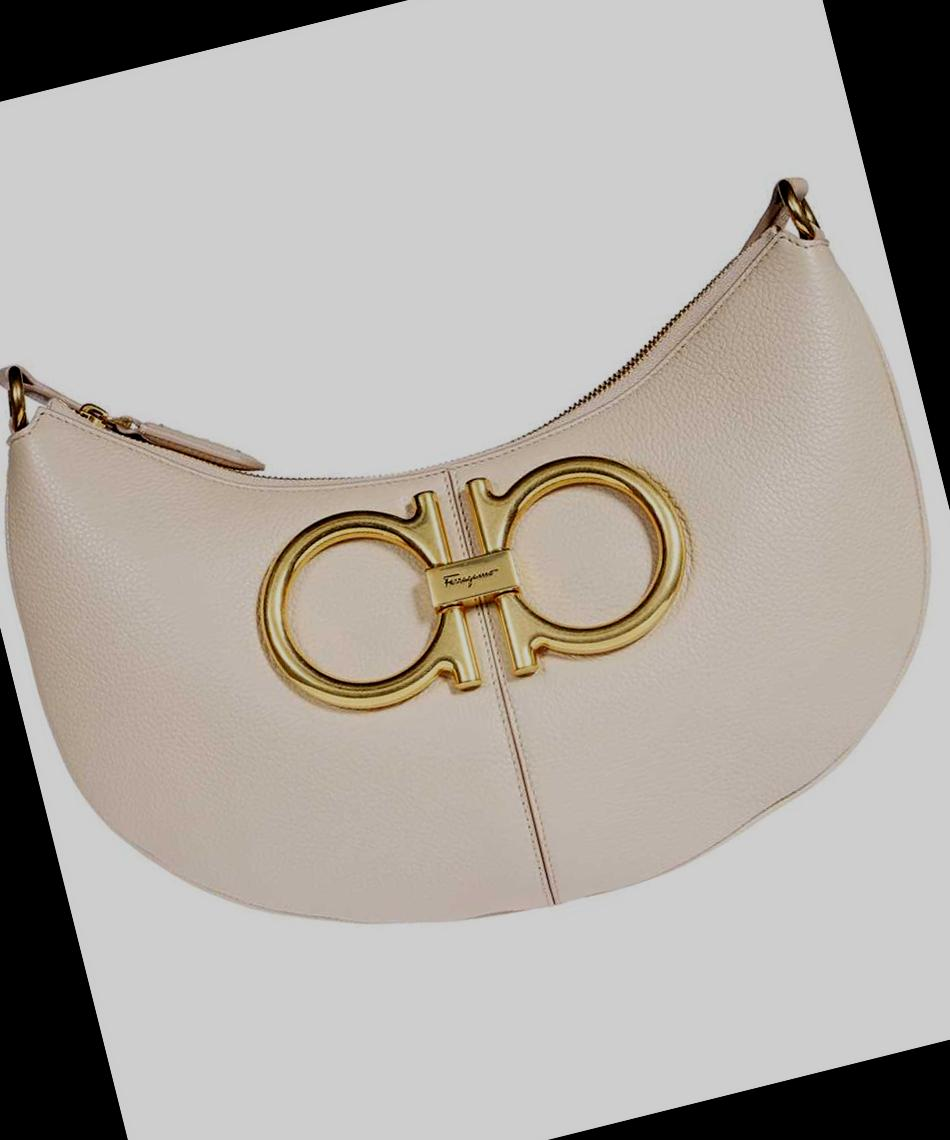FERRAGAMO: (204, 388, 733, 760)
